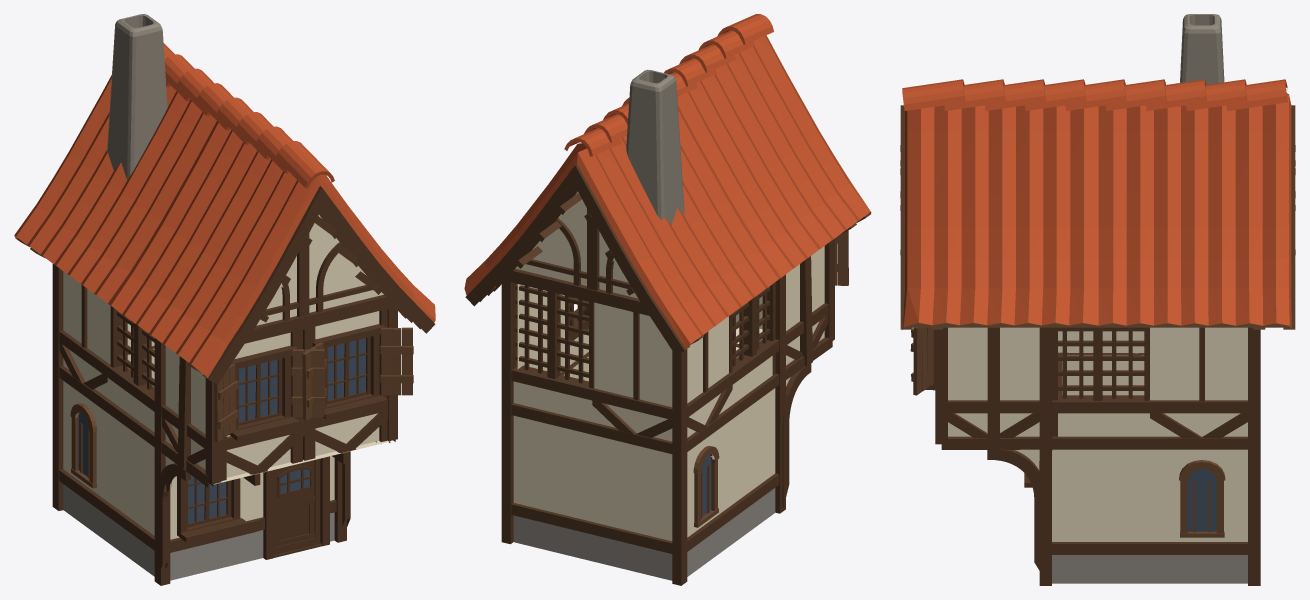
Rendered from house_jetty.obj.
3 views of the same model, side by side, from view 1: azimuth 30°, elevation 25°; view 2: azimuth 150°, elevation 25°; view 3: azimuth 270°, elevation 25° (orthographic). The views are drawn at different scales.
Size of the model in its own units: 5.51 by 10.64 by 7.59.
